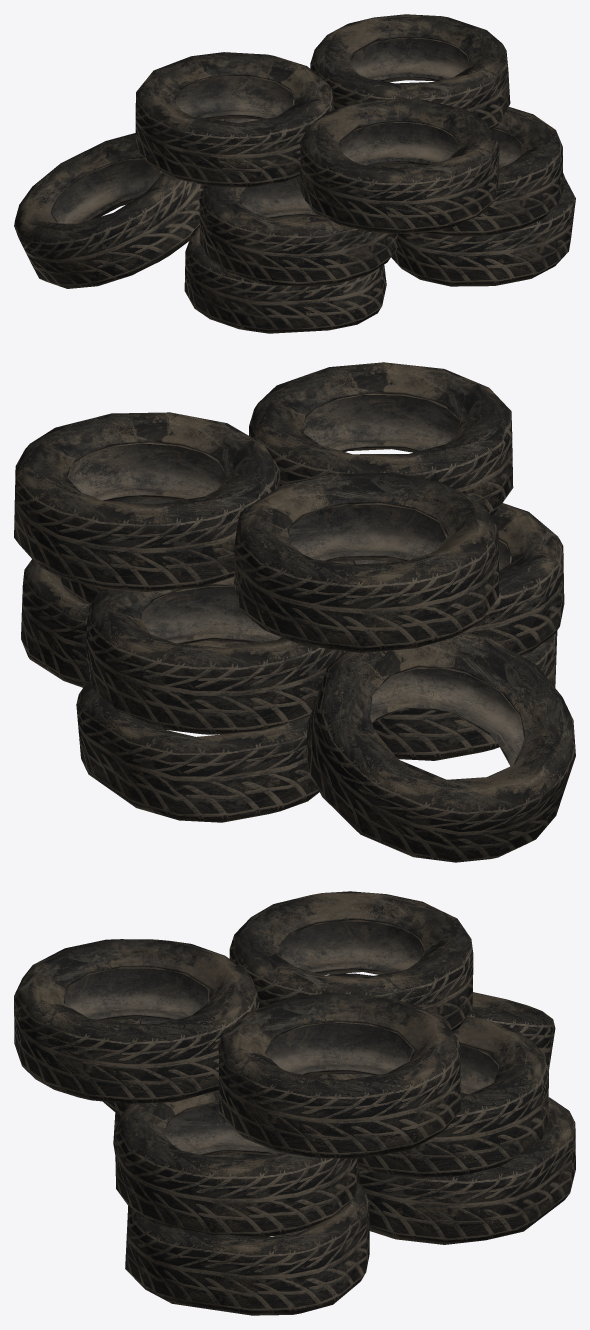
Rendered from SM_Tires_Merged.fbx.
3 views of the same model, one above another, from view 1: azimuth 30°, elevation 25°; view 2: azimuth 150°, elevation 25°; view 3: azimuth 270°, elevation 25° (orthographic). The views are drawn at different scales.
Visible parts, largest first — view 1: SM_Tires_Merged_LOD0; view 2: SM_Tires_Merged_LOD0; view 3: SM_Tires_Merged_LOD0.
Part boxes in pixels (<box>): SM_Tires_Merged_LOD0: <box>14,14,575,333</box>; SM_Tires_Merged_LOD0: <box>14,362,575,862</box>; SM_Tires_Merged_LOD0: <box>14,891,575,1315</box>.
Size of the model in its own units: 187 by 161 by 70.84.
1 material, 1 textured.
